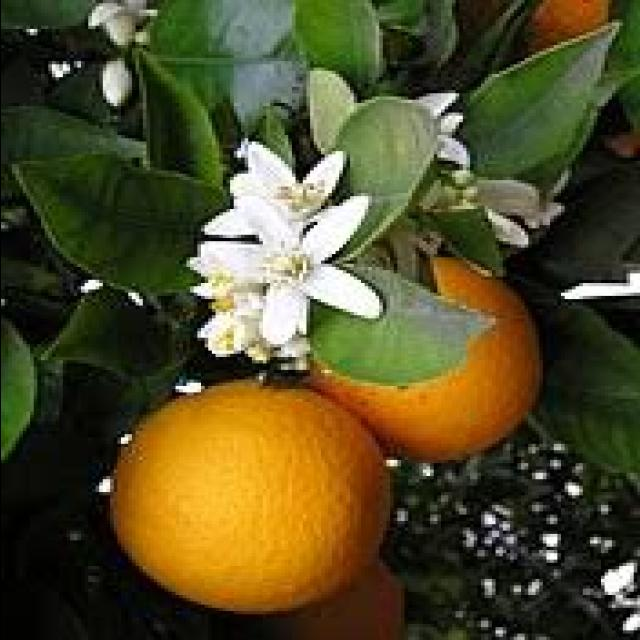orange: (103, 382, 373, 612)
